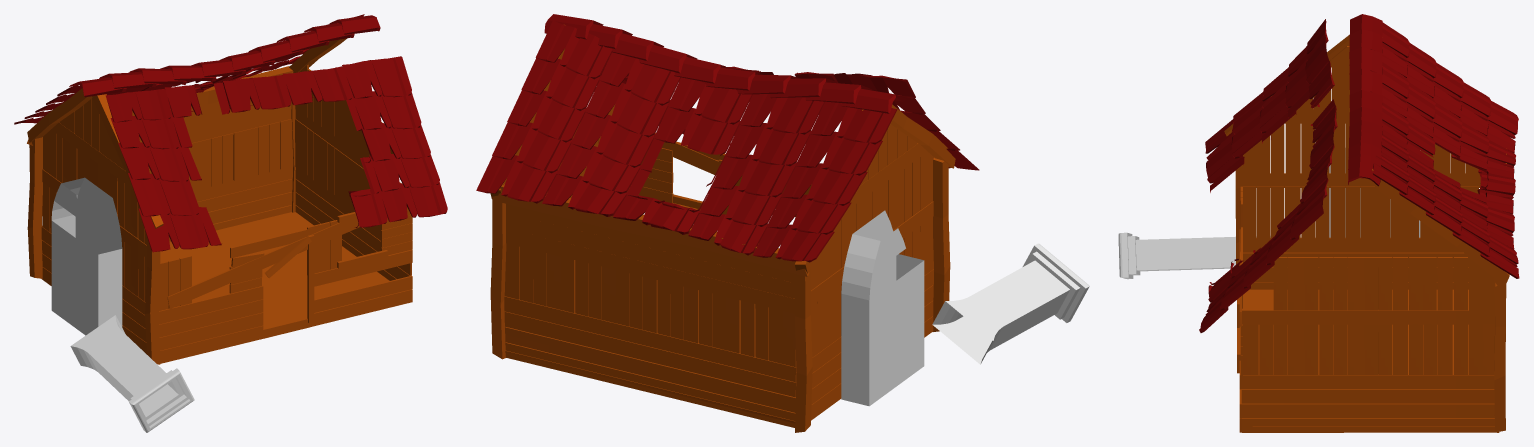
File: House3.fbx
The picture shows the model from 3 angles, left to right: view 1: azimuth 30°, elevation 25°; view 2: azimuth 150°, elevation 25°; view 3: azimuth 270°, elevation 25°; orthographic projection. The views are drawn at different scales.
Parts seen in each view (by area): view 1: Cube.072, Cube.085, low poly.410, Cube.063, Cube.084, LOW 1.057, low poly.261, Cube.076, LOW 1.058, LOW 1.060, Cube.073, Cube.074 (+34 smaller); view 2: Cube.073, Cube.085, Cube.063, Cube.084, low poly.407, low poly.124, low poly.126, low poly.125, low poly.406, low poly.383, Cube.083, low poly.408 (+32 smaller); view 3: Cube.073, Cube.072, Cube.084, LOW 1.058, low poly.337, Cube.063, low poly.336, low poly.338, low poly.339, low poly.315, low poly.410, Cube.077 (+53 smaller).
Boxes of the visible parts, bbox=[...] form: Cube.072: bbox=[105, 56, 447, 252]; Cube.085: bbox=[51, 177, 122, 335]; low poly.410: bbox=[160, 212, 389, 328]; Cube.063: bbox=[70, 315, 194, 432]; Cube.084: bbox=[69, 15, 380, 97]; LOW 1.057: bbox=[159, 285, 263, 363]; low poly.261: bbox=[167, 218, 359, 308]; Cube.076: bbox=[27, 137, 42, 278]; LOW 1.058: bbox=[41, 226, 159, 354]; LOW 1.060: bbox=[59, 98, 124, 170]; Cube.073: bbox=[14, 14, 364, 124]; Cube.074: bbox=[145, 236, 160, 364]; Cube.073: bbox=[476, 20, 897, 262]; Cube.085: bbox=[841, 210, 924, 406]; Cube.063: bbox=[932, 243, 1089, 364]; Cube.084: bbox=[544, 14, 906, 113]; low poly.407: bbox=[506, 213, 794, 298]; low poly.124: bbox=[505, 327, 795, 412]; low poly.126: bbox=[504, 296, 796, 382]; low poly.125: bbox=[504, 311, 796, 397]; low poly.406: bbox=[506, 228, 794, 313]; low poly.383: bbox=[505, 342, 795, 427]; Cube.083: bbox=[498, 184, 809, 276]; low poly.408: bbox=[506, 203, 794, 283]; Cube.073: bbox=[1372, 22, 1519, 278]; Cube.072: bbox=[1199, 19, 1337, 332]; Cube.084: bbox=[1348, 14, 1382, 186]; LOW 1.058: bbox=[1243, 237, 1468, 289]; low poly.337: bbox=[1241, 403, 1494, 418]; Cube.063: bbox=[1118, 232, 1270, 279]; low poly.336: bbox=[1242, 309, 1494, 324]; low poly.338: bbox=[1241, 374, 1494, 389]; low poly.339: bbox=[1241, 389, 1494, 403]; low poly.315: bbox=[1242, 418, 1496, 432]; low poly.410: bbox=[1243, 289, 1494, 428]; Cube.077: bbox=[1494, 278, 1506, 432].
Size of the model in its own units: 1204 by 837 by 1053.
